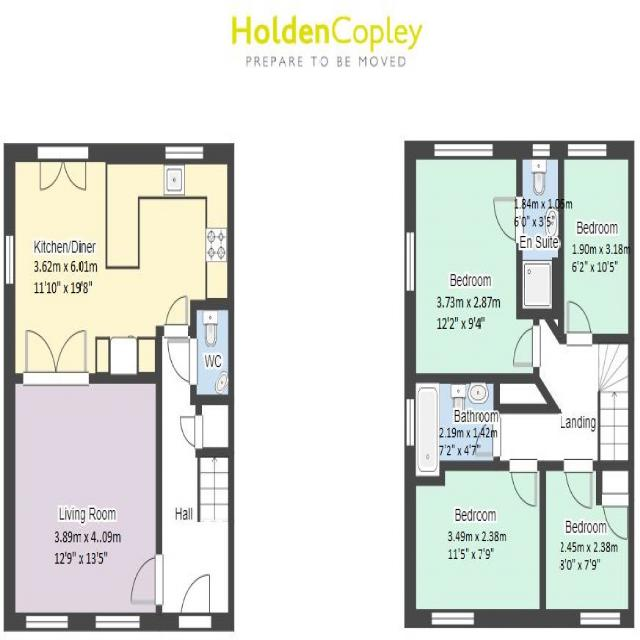DOOR: (178, 570, 213, 636), (127, 551, 167, 606), (561, 456, 596, 513), (490, 197, 526, 247), (164, 336, 200, 385), (508, 458, 538, 512), (565, 295, 595, 348), (510, 324, 544, 370), (160, 291, 191, 341), (601, 490, 629, 545), (472, 415, 503, 460)
DOUBLE DOOR: (22, 325, 90, 384), (34, 140, 90, 194)
ROOM: (2, 142, 236, 387), (3, 327, 164, 634), (402, 138, 542, 386), (402, 460, 548, 629), (557, 138, 636, 348), (539, 461, 635, 630)
WINDOW: (431, 137, 495, 164), (93, 610, 143, 635), (23, 609, 71, 635), (162, 140, 206, 168), (577, 606, 622, 631), (429, 607, 475, 630), (402, 228, 418, 293), (566, 139, 610, 162), (2, 233, 18, 288), (402, 396, 417, 451), (529, 139, 553, 164)
